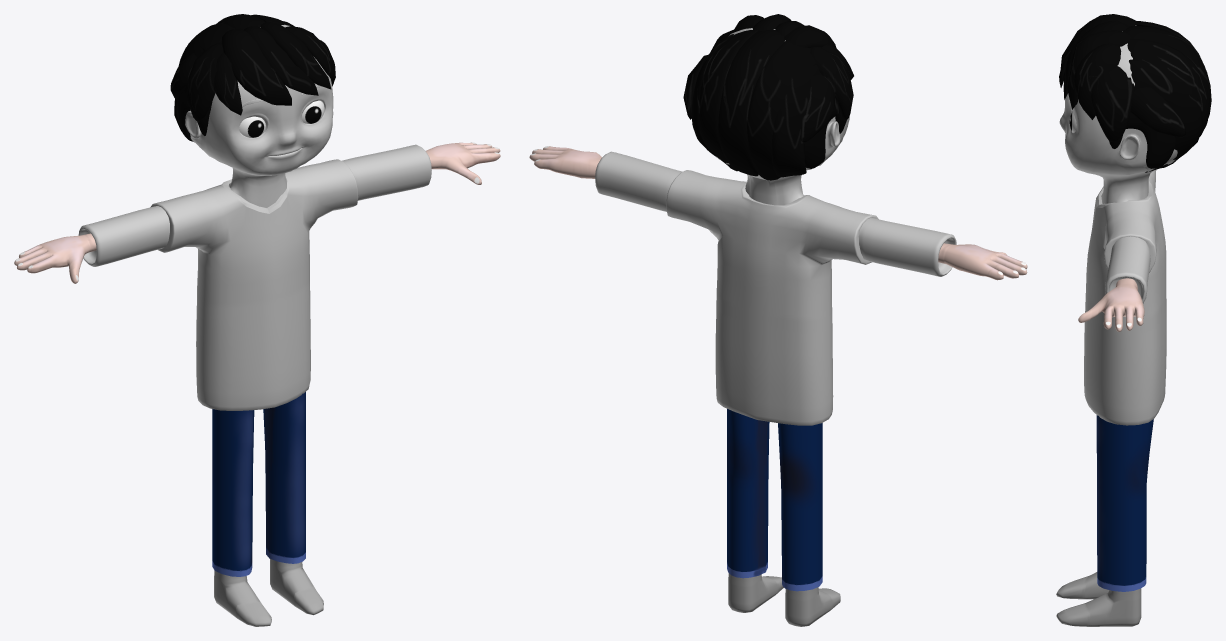
Rendered from Aiman (Stockings).fbx.
3 renders of one model, left to right at view 1: azimuth 30°, elevation 25°; view 2: azimuth 150°, elevation 25°; view 3: azimuth 270°, elevation 25°, orthographic. The views are drawn at different scales.
Parts seen in each view (by area): view 1: Shirt, Pants, Head14, polySurface8, R_hand3, R_foot, L_foot, L_hand1, polySurface12, polySurface14, polySurface13, polySurface9 (+1 smaller); view 2: Shirt, Pants, polySurface2, polySurface3, polySurface6, polySurface1, R_hand3, Head14, L_hand1, R_foot, L_foot, polySurface19 (+4 smaller); view 3: Shirt, Pants, Head14, polySurface4, L_foot, polySurface11, polySurface1, L_hand1, polySurface10, polySurface17, polySurface2, polySurface13 (+6 smaller).
Boxes of the visible parts, left/top/right/bottom form: Shirt: left=78, top=144, right=431, bottom=410; Pants: left=212, top=392, right=305, bottom=576; Head14: left=185, top=57, right=333, bottom=207; polySurface8: left=221, top=29, right=291, bottom=105; R_hand3: left=14, top=233, right=96, bottom=283; R_foot: left=214, top=570, right=271, bottom=626; L_foot: left=270, top=559, right=323, bottom=615; L_hand1: left=426, top=142, right=500, bottom=184; polySurface12: left=186, top=42, right=223, bottom=122; polySurface14: left=244, top=26, right=318, bottom=95; polySurface13: left=260, top=22, right=331, bottom=89; polySurface9: left=214, top=52, right=242, bottom=115; Shirt: left=595, top=151, right=956, bottom=425; Pants: left=727, top=409, right=822, bottom=591; polySurface2: left=718, top=29, right=784, bottom=176; polySurface3: left=747, top=39, right=816, bottom=180; polySurface6: left=772, top=64, right=821, bottom=177; polySurface1: left=699, top=29, right=757, bottom=171; R_hand3: left=938, top=243, right=1027, bottom=280; Head14: left=745, top=116, right=849, bottom=205; L_hand1: left=529, top=146, right=601, bottom=178; R_foot: left=785, top=587, right=840, bottom=626; L_foot: left=728, top=573, right=783, bottom=612; polySurface19: left=800, top=75, right=834, bottom=143; Shirt: left=1084, top=170, right=1166, bottom=425; Pants: left=1096, top=415, right=1153, bottom=591; Head14: left=1059, top=83, right=1153, bottom=203; polySurface4: left=1129, top=59, right=1202, bottom=172; L_foot: left=1056, top=588, right=1141, bottom=626; polySurface11: left=1091, top=66, right=1134, bottom=141; polySurface1: left=1127, top=38, right=1209, bottom=168; L_hand1: left=1078, top=278, right=1144, bottom=331; polySurface10: left=1073, top=43, right=1121, bottom=119; polySurface17: left=1130, top=87, right=1185, bottom=137; polySurface2: left=1123, top=26, right=1211, bottom=117; polySurface13: left=1067, top=30, right=1131, bottom=109.
Size of the model in its own units: 12.16 by 13.84 by 3.34.
